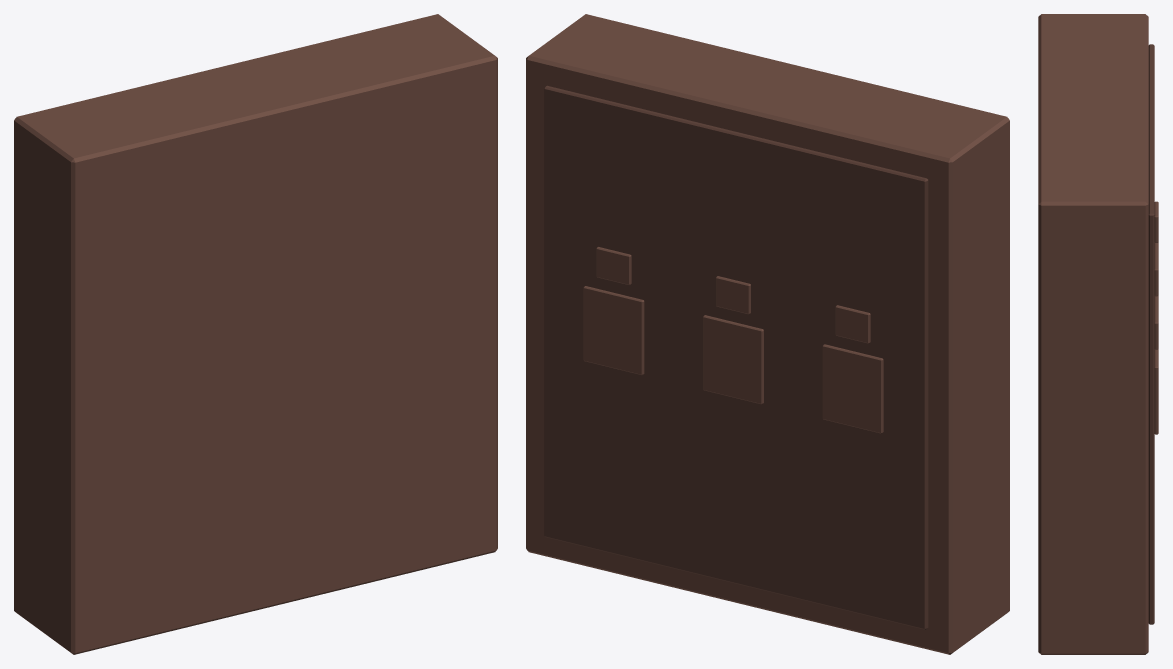
Rendered from tableau_fer.glb.
3 views of the same model, side by side, from view 1: azimuth 30°, elevation 25°; view 2: azimuth 150°, elevation 25°; view 3: azimuth 270°, elevation 25° (orthographic). The views are drawn at different scales.
Parts seen in each view (by area): view 1: tableau_fer; view 2: tableau_fer; view 3: tableau_fer.
Part boxes in pixels (<box>): tableau_fer: <box>14,14,497,654</box>; tableau_fer: <box>526,14,1009,654</box>; tableau_fer: <box>1038,14,1158,654</box>.
Bounding box in the file's own units: 1.35 × 1.5 × 0.36.
Materials: 1 (1 with a texture image).
